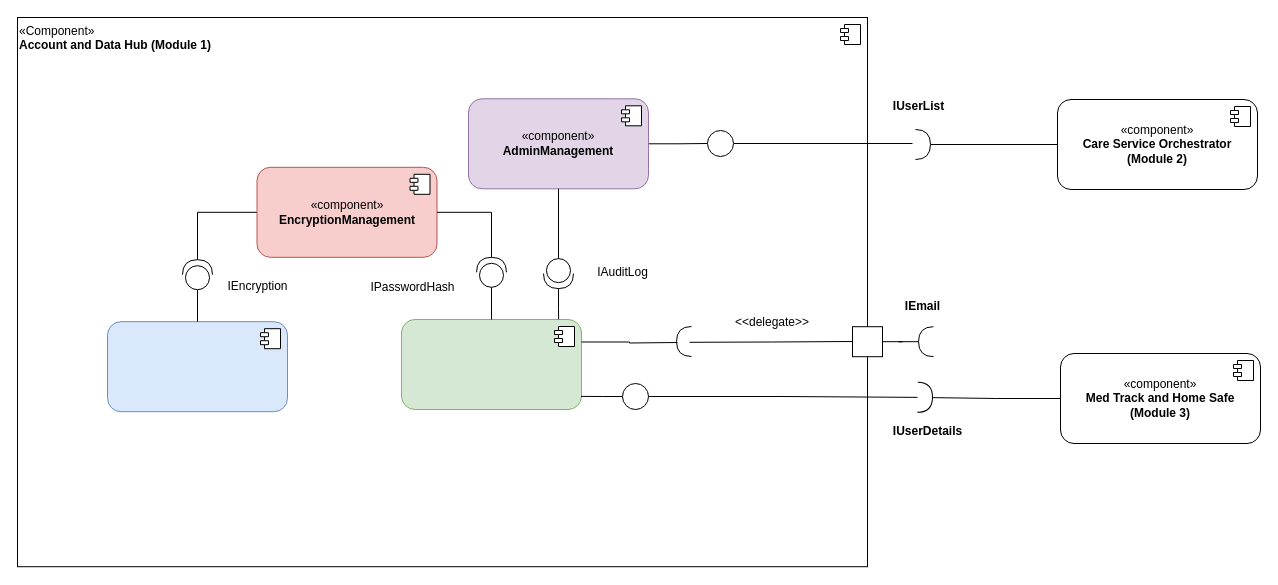
Some shapes in this 1278 by 585 pixel diagram are drawn without their labels. Each missing label, with the centre of its shape:
«component» AccountManagement: the point at 491,364
«component» MedicalRecordManagement: the point at 197,366
